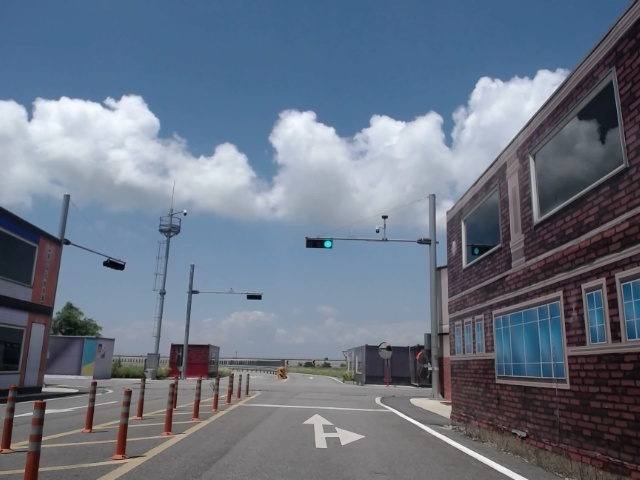green_3: (307, 239, 332, 249)
